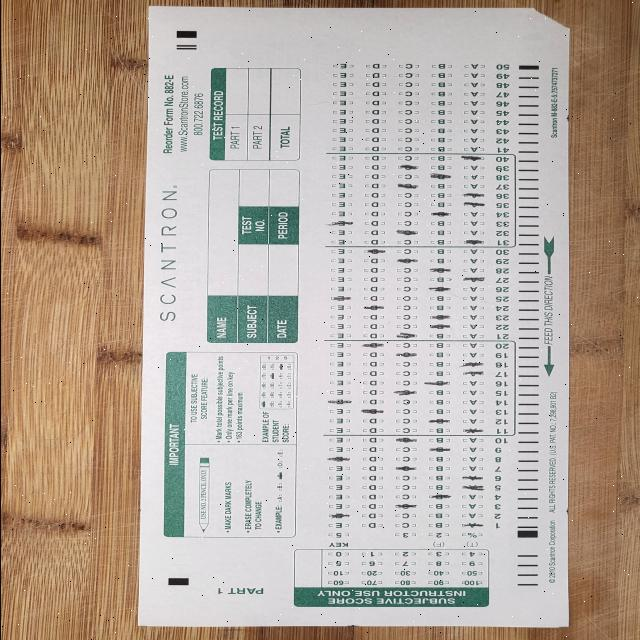scantron: (136, 6, 571, 628)
